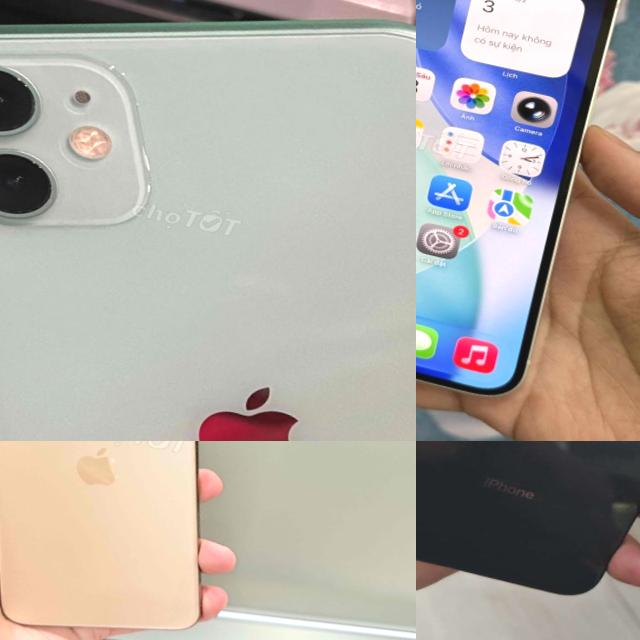gen_11: (0, 0, 416, 441), (0, 441, 199, 628)
gen_14: (416, 0, 628, 415)
gen_x_xs: (416, 441, 640, 640)
